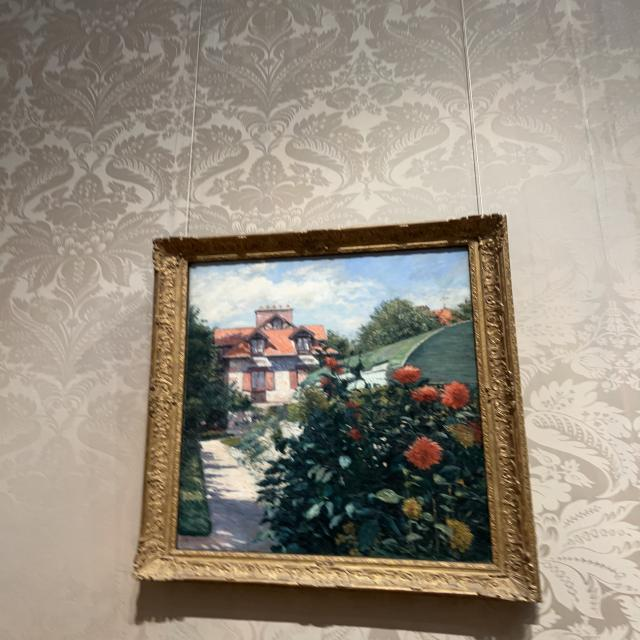summer: (177, 247, 493, 564)
